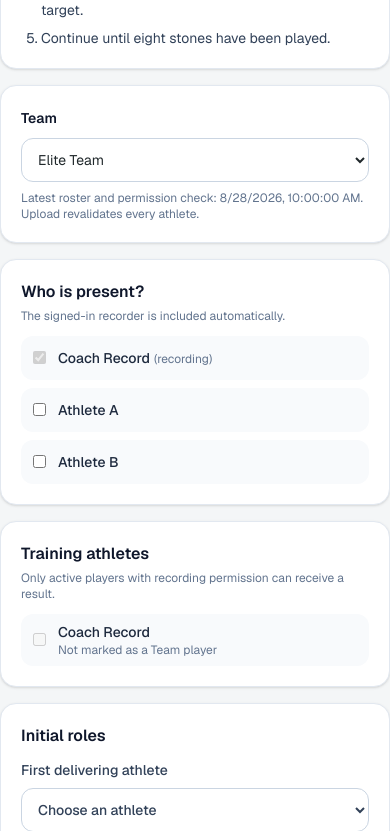
Test: ExerciseTeamSetupScreen › clears actual sweeping use when the final Sweeper is removed
(page scrolled)
Click the checkbox labelled "Athlete A": {"x": 40, "y": 410} top-left (33, 403), bottom-right (46, 416)
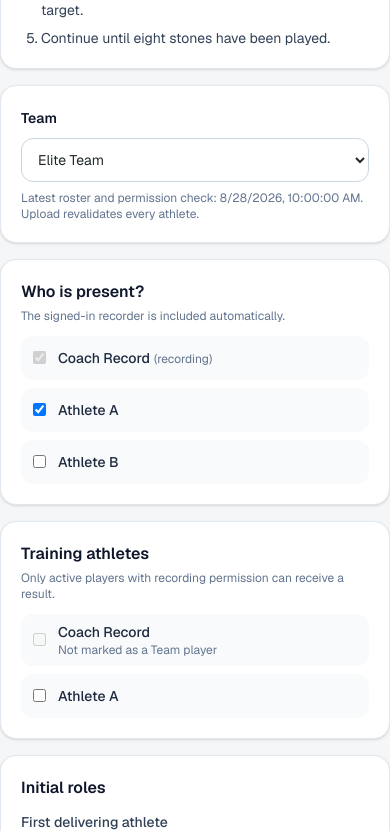
Click the checkbox labelled "Athlete B": {"x": 40, "y": 462} top-left (33, 455), bottom-right (46, 468)
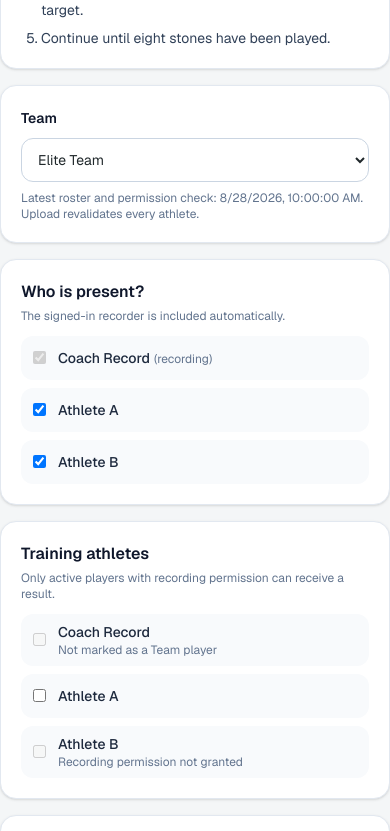
Click the checkbox labelled "Athlete A" below "Not marked as a Team player": {"x": 40, "y": 696} top-left (33, 689), bottom-right (46, 702)
(page scrolled)
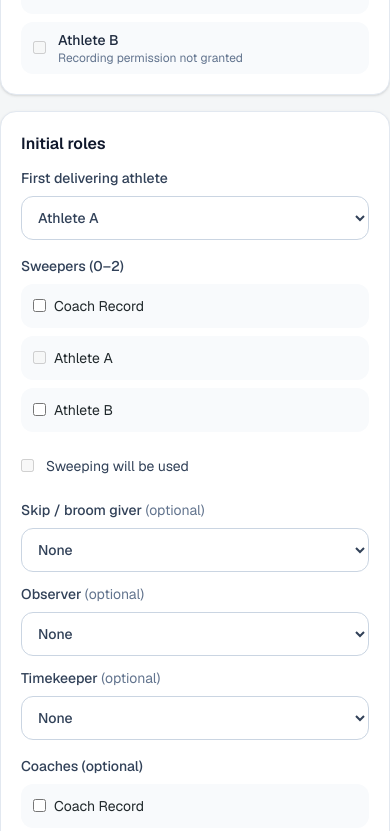
Click the checkbox labelled "Athlete B": {"x": 40, "y": 410} top-left (33, 403), bottom-right (46, 416)
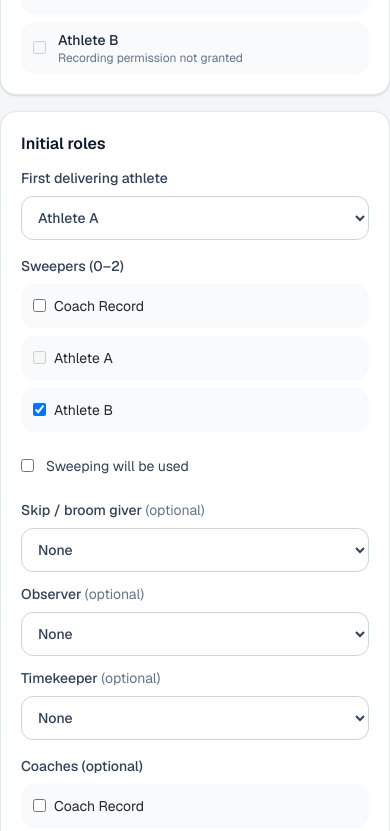
Click the checkbox labelled "Sweeping will be used": {"x": 28, "y": 466} top-left (21, 459), bottom-right (34, 472)
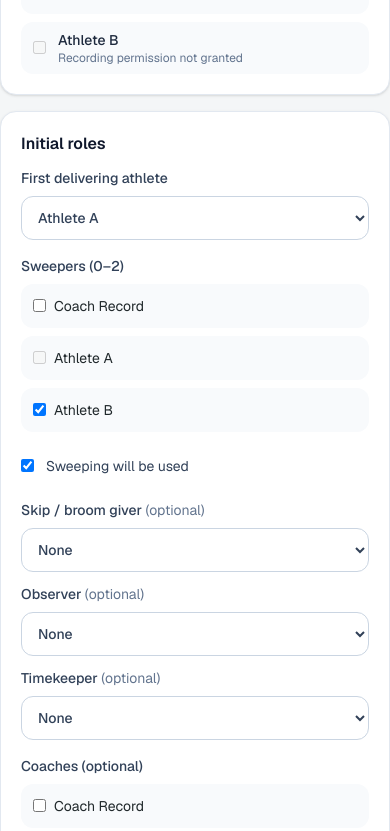
expect the checkbox labelled "Sweeping will be used" is checked: met, box top-left (21, 459), bottom-right (34, 472)
Click the checkbox labelled "Athlete B": {"x": 40, "y": 410} top-left (33, 403), bottom-right (46, 416)
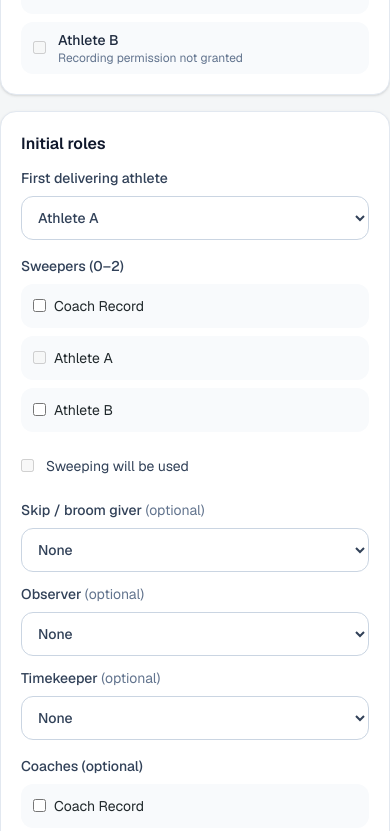
expect the checkbox labelled "Sweeping will be used" is not checked: met, box top-left (21, 459), bottom-right (34, 472)
expect the checkbox labelled "Sweeping will be used" is disabled: met, box top-left (21, 459), bottom-right (34, 472)
